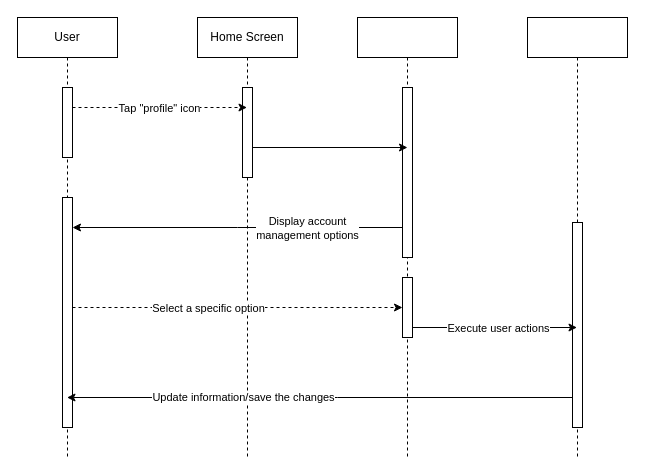
Some shapes in this 645 by 475 pixel diagram are drawn without their labels. Here are the shapes that lost their labels. From the top down, the box of each, then its label:
(356, 16, 458, 458): Profile Screen
(526, 16, 628, 458): System
